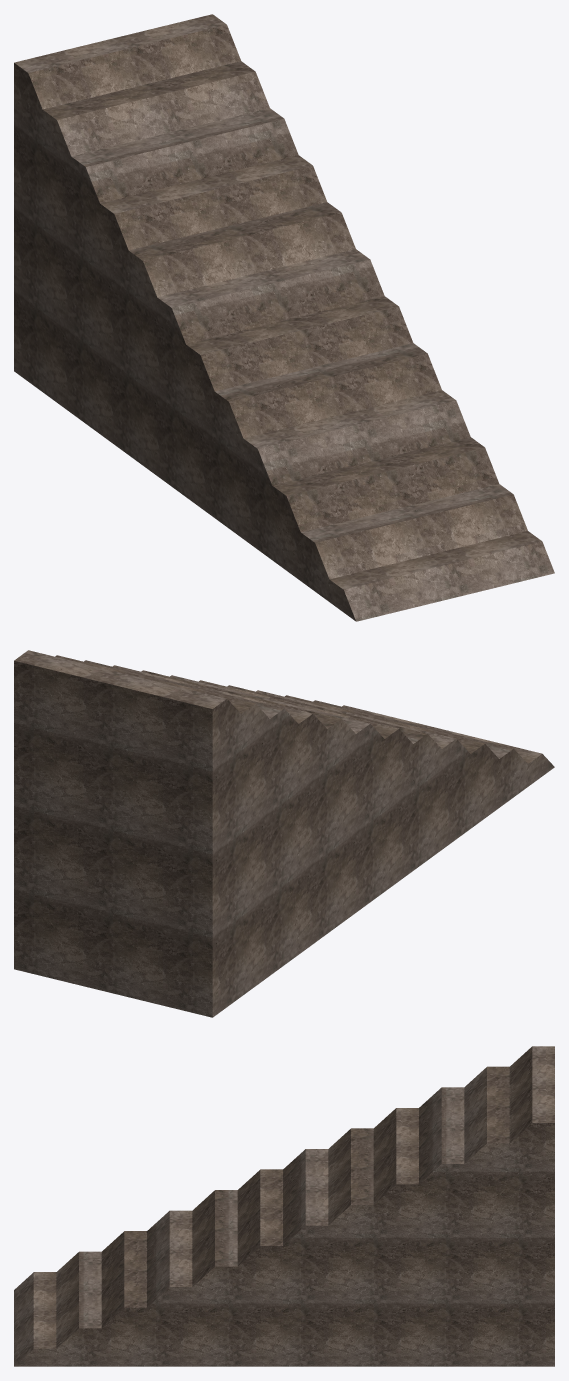
File: architecture_stairs2a.glb
The picture shows the model from 3 angles, top to bottom: view 1: azimuth 30°, elevation 25°; view 2: azimuth 150°, elevation 25°; view 3: azimuth 270°, elevation 25°; orthographic projection. The views are drawn at different scales.
Parts seen in each view (by area): view 1: stairs2a; view 2: stairs2a; view 3: stairs2a.
Boxes of the visible parts, <box> form: stairs2a: <box>14,14,554,621</box>; stairs2a: <box>14,650,554,1017</box>; stairs2a: <box>14,1046,554,1366</box>.
Bounding box in the file's own units: 4 × 5.94 × 11.94.
Materials: 1 (1 with a texture image).
